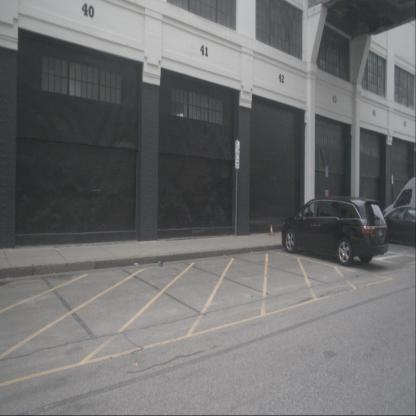movable_object-trafficcone: (270, 223, 274, 236)
vehicle-car: (282, 196, 388, 266), (381, 176, 416, 240), (375, 206, 416, 248)
